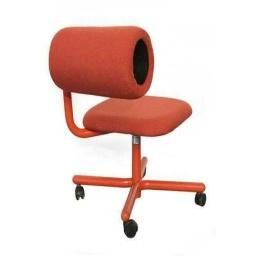Chair: (48, 26, 209, 237)
